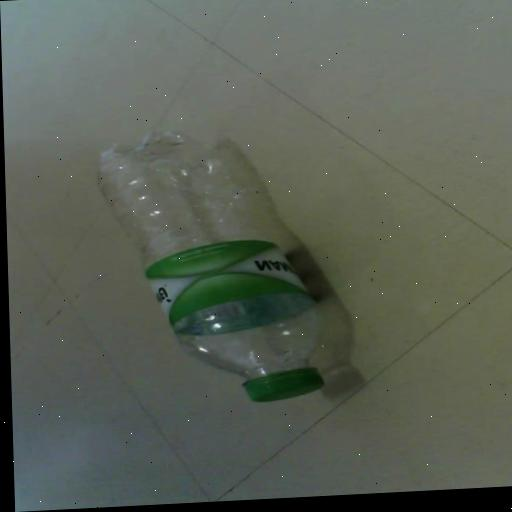bottle: (84, 87, 358, 437)
